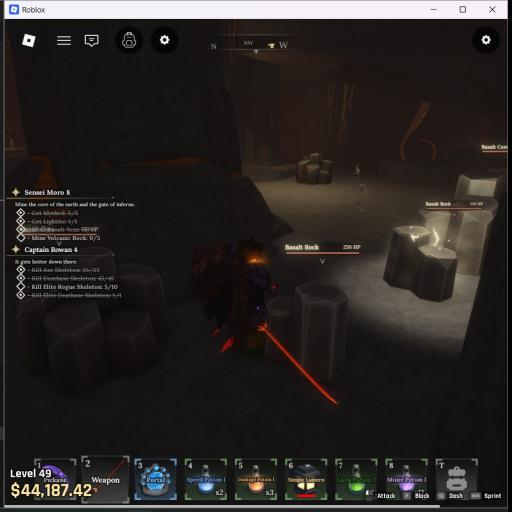player: (190, 238, 275, 351)
rock: (17, 247, 169, 391), (417, 171, 506, 275), (267, 282, 347, 381), (383, 226, 457, 301), (296, 153, 332, 184)
